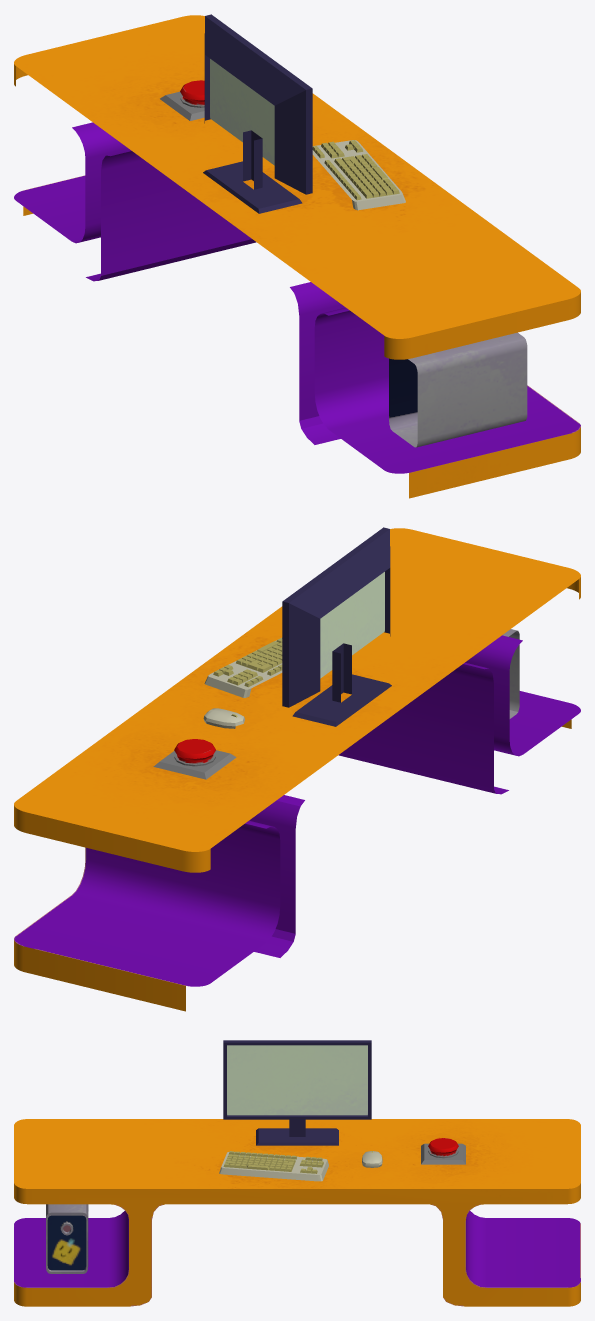
Rendered from PROP_032_SR_Table.fbx.
The picture shows the model from 3 angles, top to bottom: view 1: azimuth 30°, elevation 25°; view 2: azimuth 150°, elevation 25°; view 3: azimuth 270°, elevation 25°; orthographic projection. The views are drawn at different scales.
Parts seen in each view (by area): view 1: Sr_Pc; view 2: Sr_Pc; view 3: Sr_Pc.
Part boxes in pixels (bbox=[...]): Sr_Pc: bbox=[14, 14, 580, 498]; Sr_Pc: bbox=[14, 527, 580, 1011]; Sr_Pc: bbox=[14, 1040, 580, 1306].
Bounding box in the file's own units: 0.949 × 1.37 × 3.26.
1 material, 1 textured.
